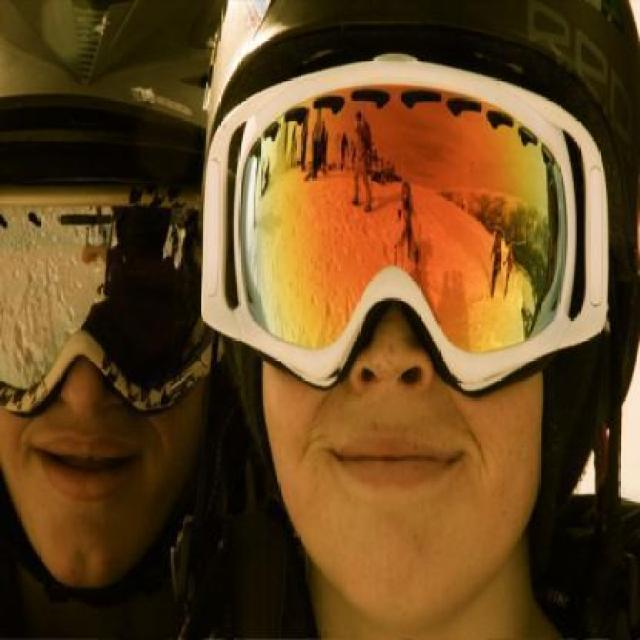face_nomask: (284, 158, 514, 504), (0, 195, 188, 533)
glasses: (196, 54, 629, 400), (0, 175, 240, 419)
